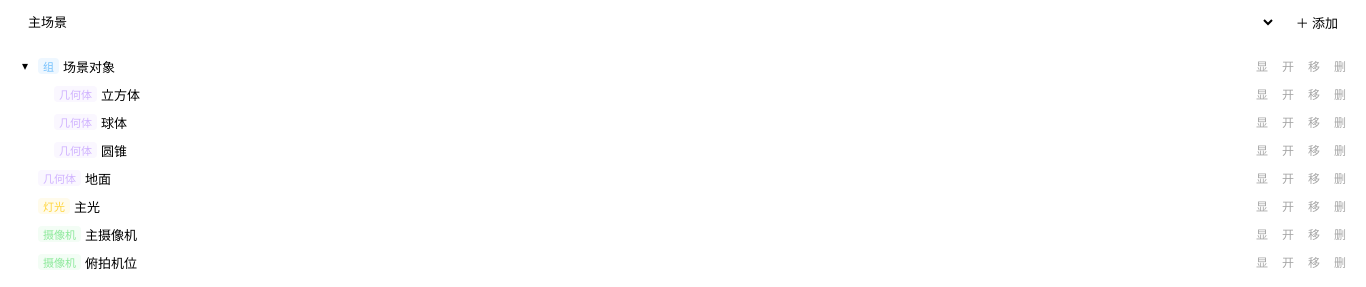
R6-D 对象树可访问性：重命名 Tab 停靠与移动到 › R6-D-T4 行内重命名期间 treeitem 移出 Tab 顺序：F2 后 tabindex=-1，提交后恢复 0
Click the list item with test id "tree-row-sample-cube" at (76, 94), box [8,80,1358,108]
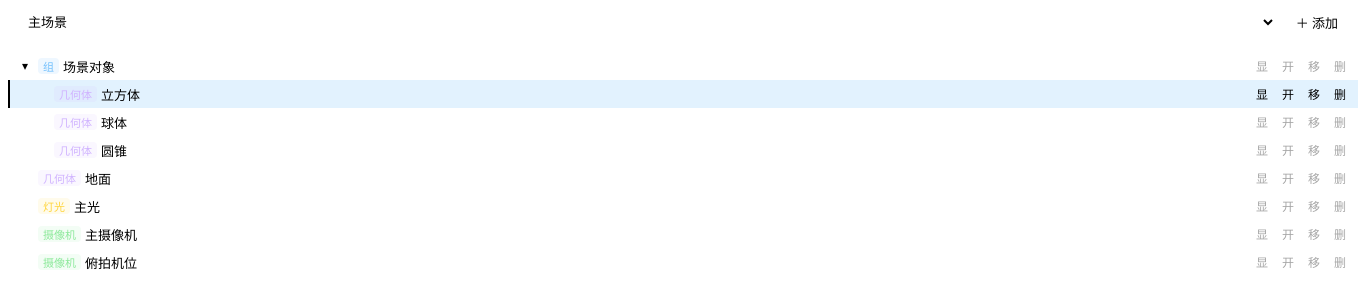
Check: the list item with test id "tree-row-sample-cube" has attribute tabindex="0"
Press F2 in the list item with test id "tree-row-sample-cube", box [8,80,1358,108]
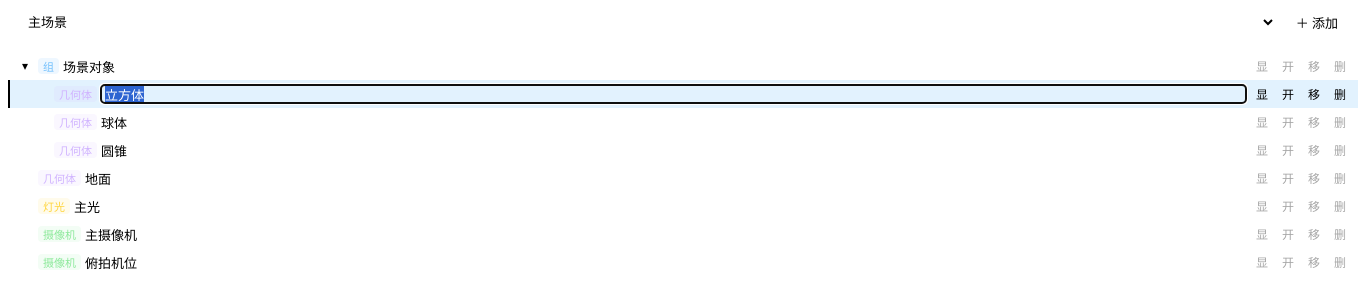
Check: the list item with test id "tree-row-sample-cube" has attribute tabindex="-1", box [8,80,1358,108]
Press Enter in the field with test id "tree-rename-sample-cube", box [101,85,1246,103]
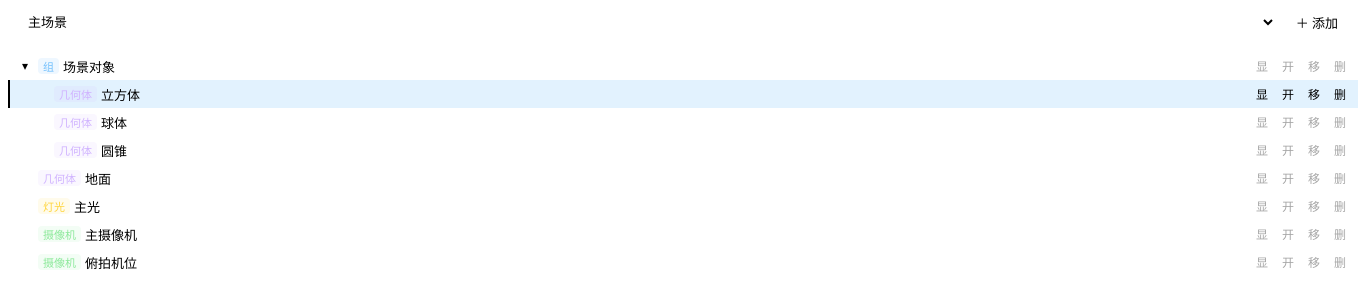
Check: the field with test id "tree-rename-sample-cube" is gone
